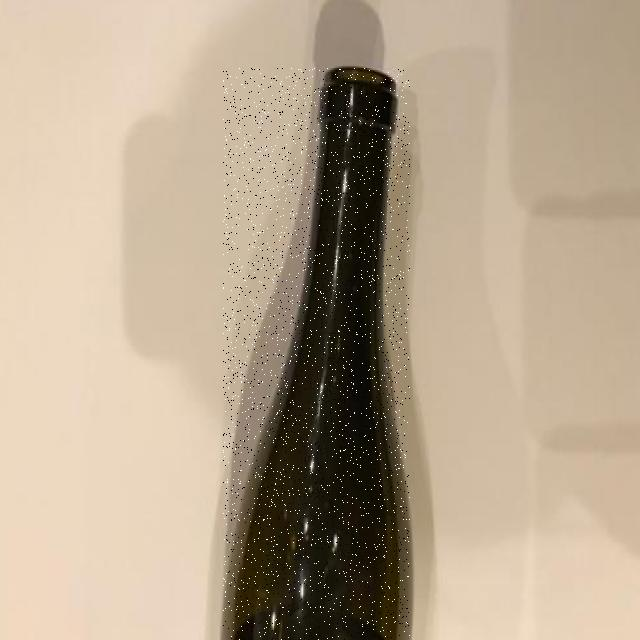glass: (223, 68, 410, 640)
